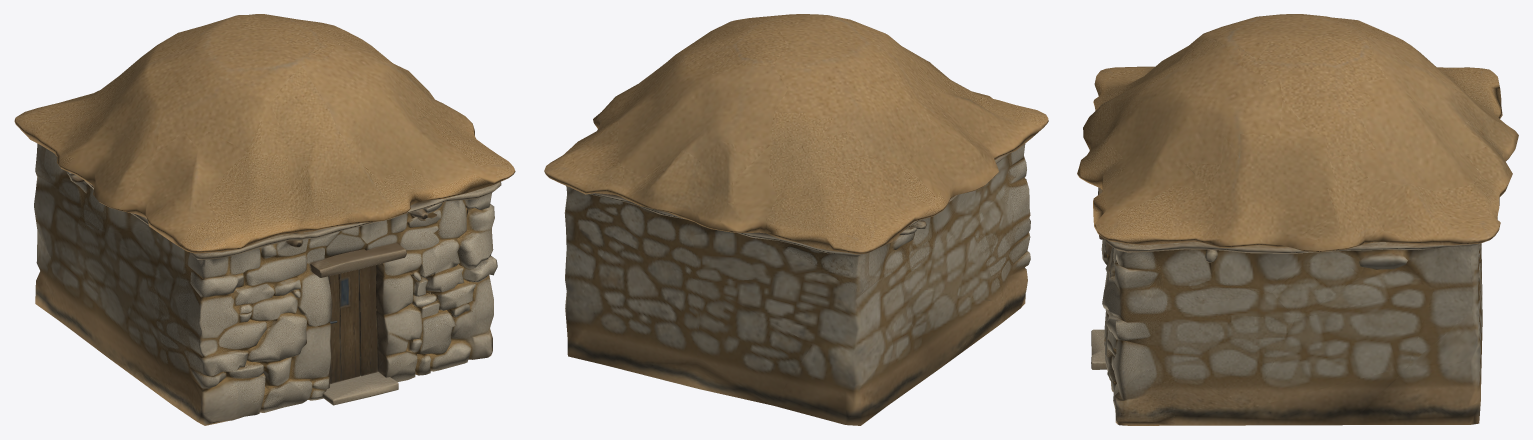
File: tas_ev.glb
3 renders of one model, left to right at view 1: azimuth 30°, elevation 25°; view 2: azimuth 150°, elevation 25°; view 3: azimuth 270°, elevation 25°, orthographic. The views are drawn at different scales.
Size of the model in its own units: 0.9585 by 0.7568 by 0.9619.
Materials: 1 (1 with a texture image).
